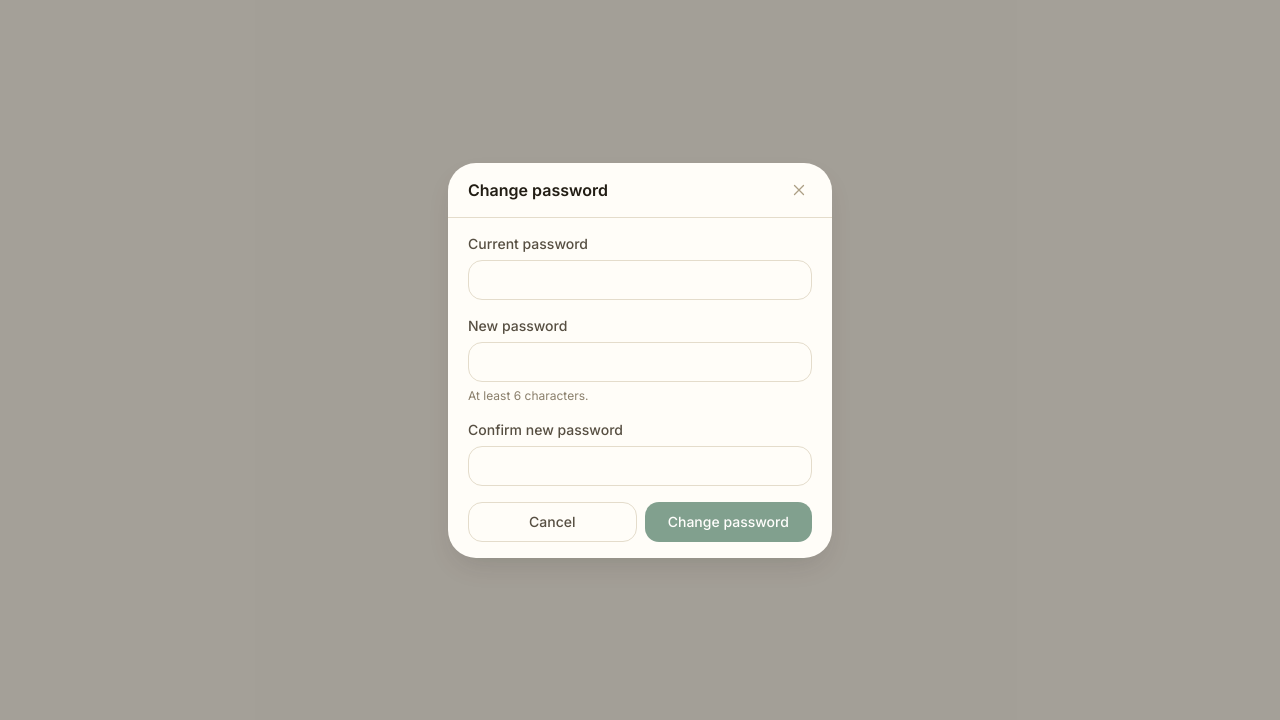
Test: ChangePasswordModal › says plainly when the current password is wrong
Type "wrong" into the password field named "Current password" at (640, 280), box 468,260 -> 812,300
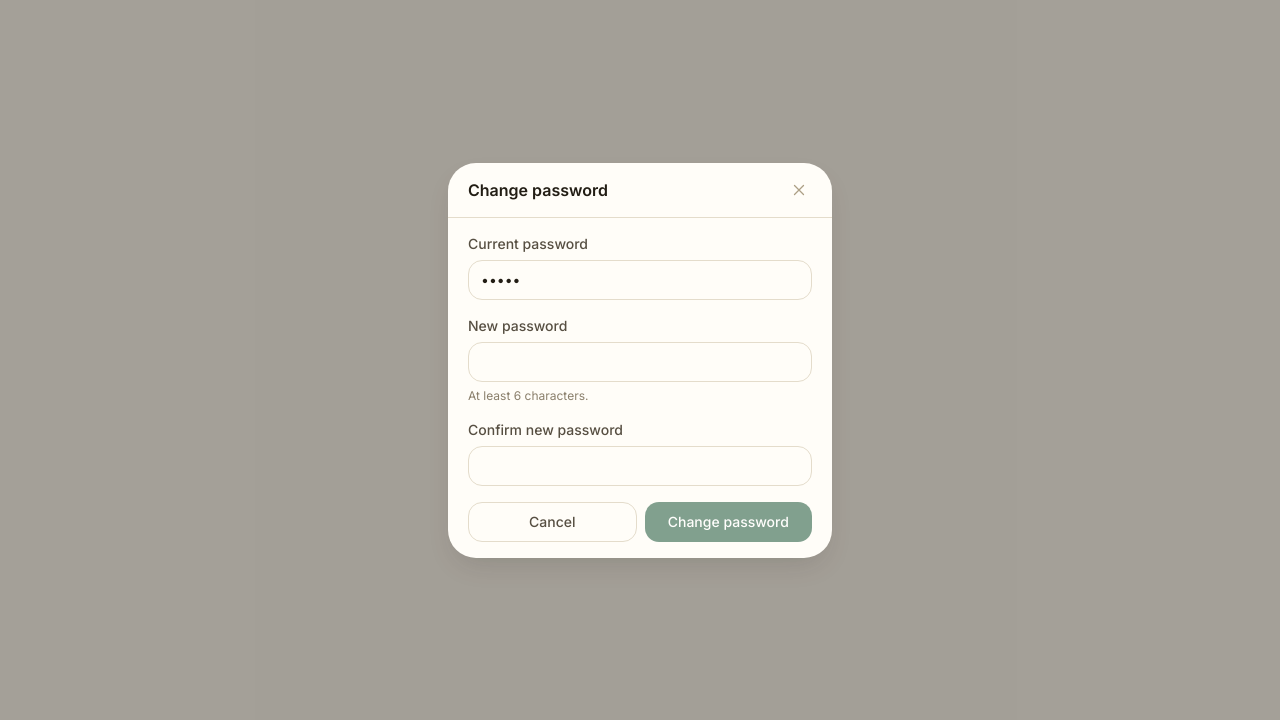
Type "newpass1" into the password field named "New password" at (640, 362), box 468,342 -> 812,382
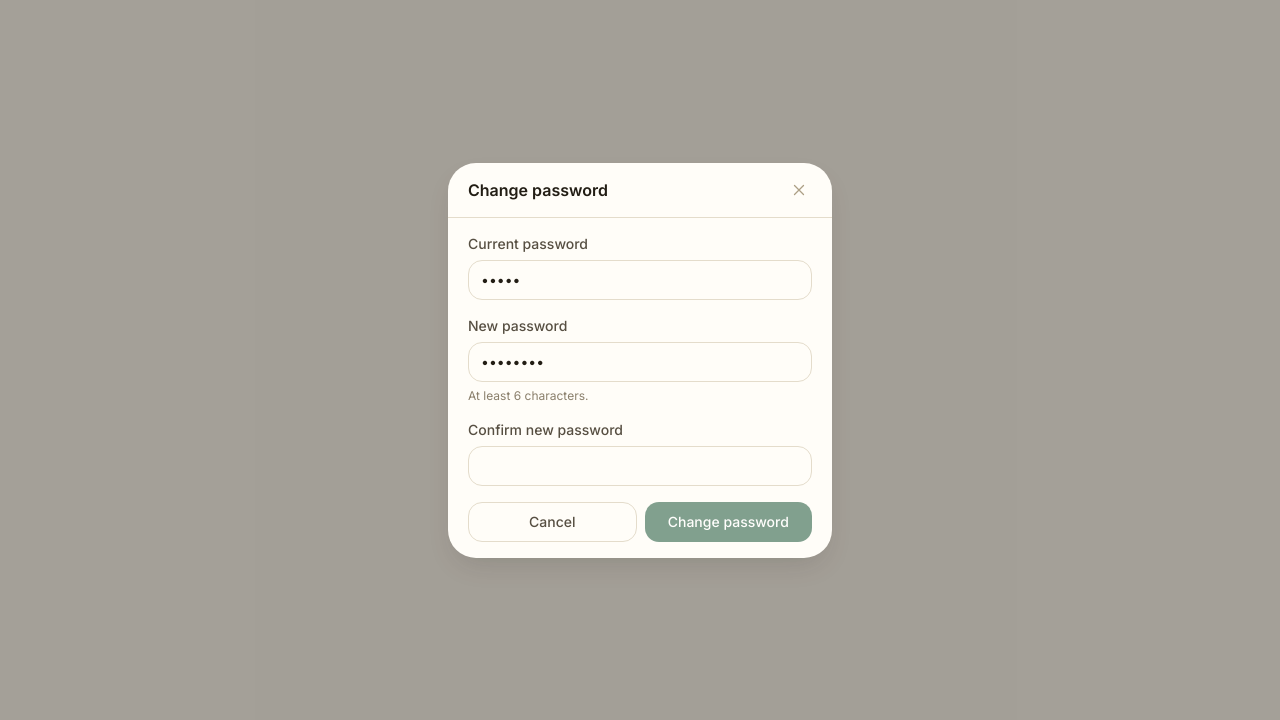
Type "newpass1" into the password field named "Confirm new password" at (640, 466), box 468,446 -> 812,486
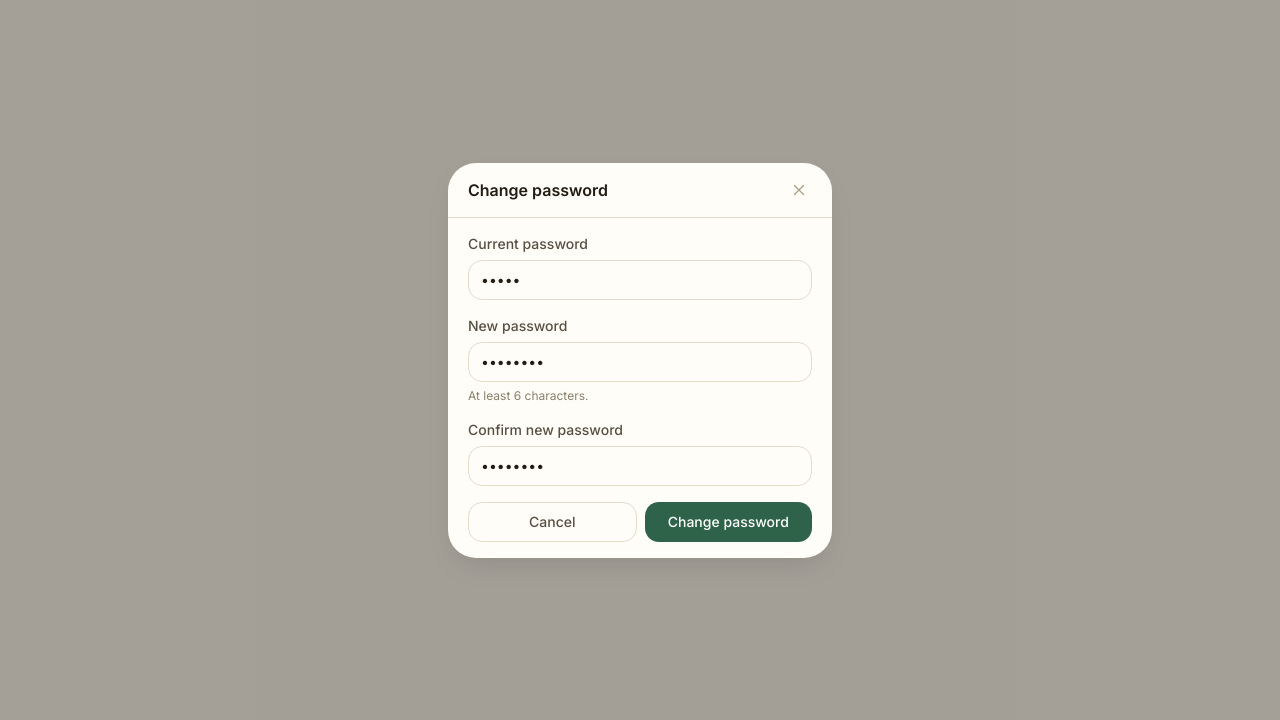
Click the button "Change password" at (728, 522), box 645,502 -> 812,542
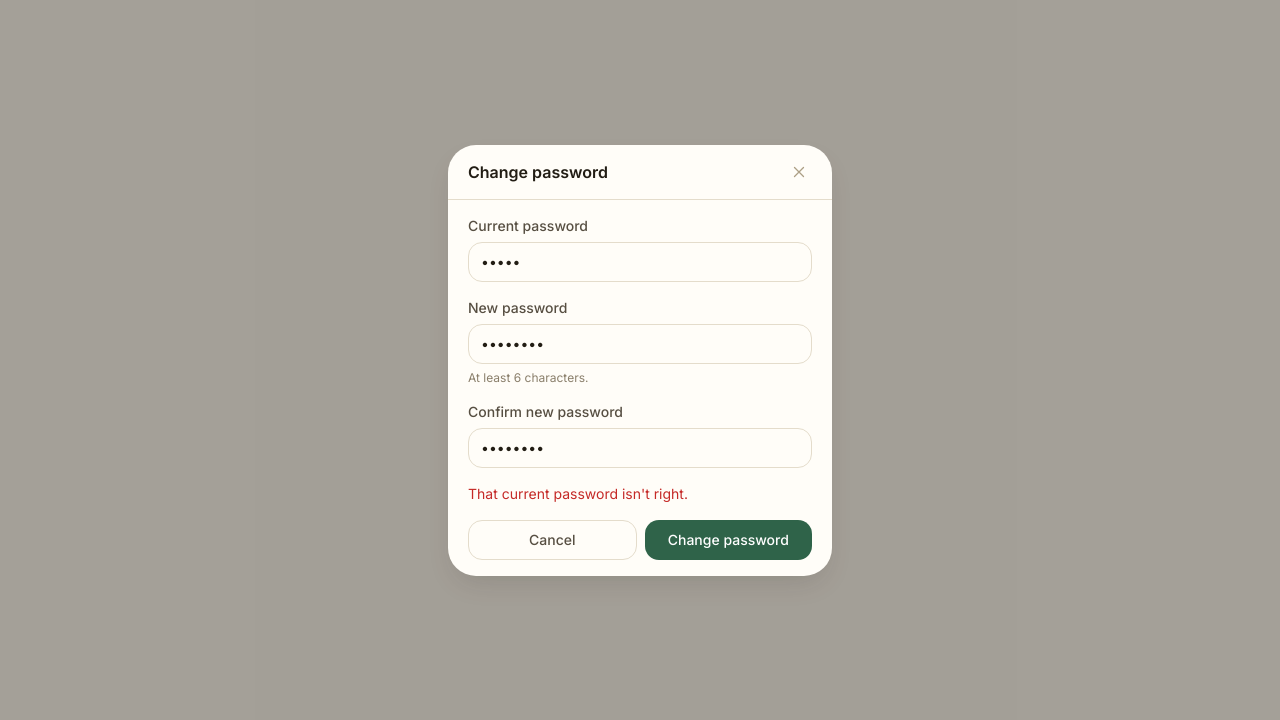
expect the message shows "current password isn't right": met, box 468,484 -> 688,502
